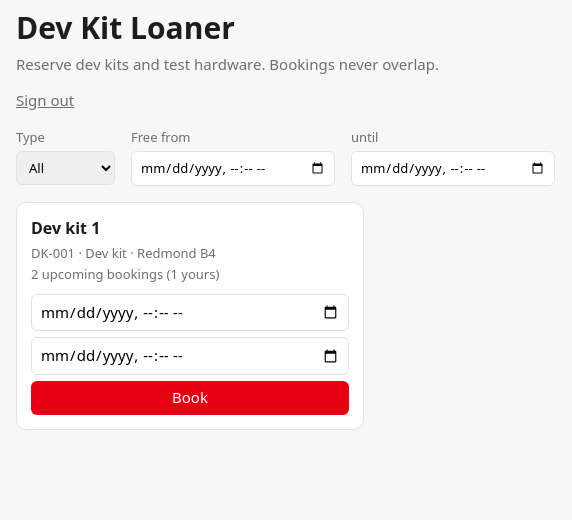
Test case: a conflicting booking shows a clear message
Expected: the heading "Dev kit 1" is shown, [31,217,100,239]
In the field named "Start": (190,312) [31,294,349,331], type "2027-06-16T09:00"
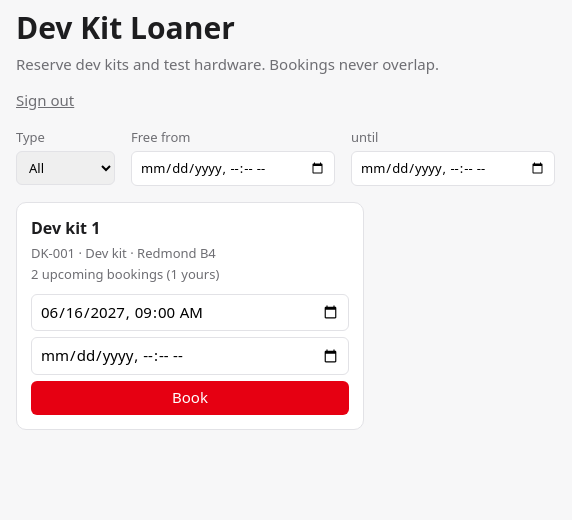
In the field named "End": (190,356) [31,337,349,375], type "2027-06-17T09:00"
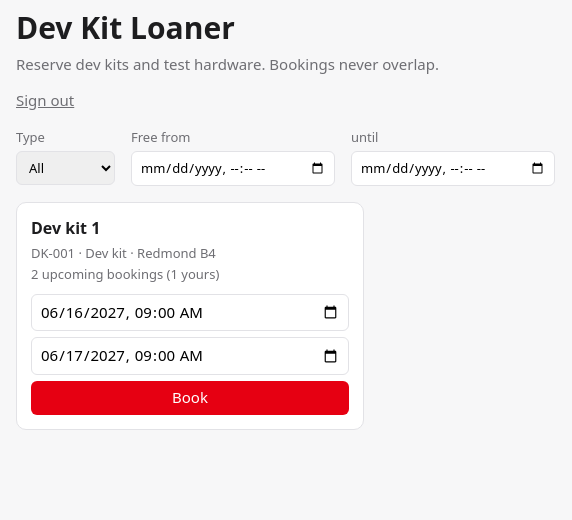
Click the button "Book": (190,398) [31,381,349,415]
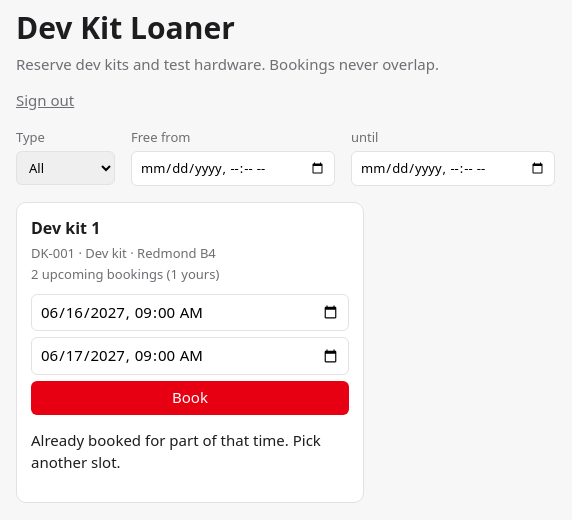
Now the message shows "Already booked", box [31,430,321,472]
